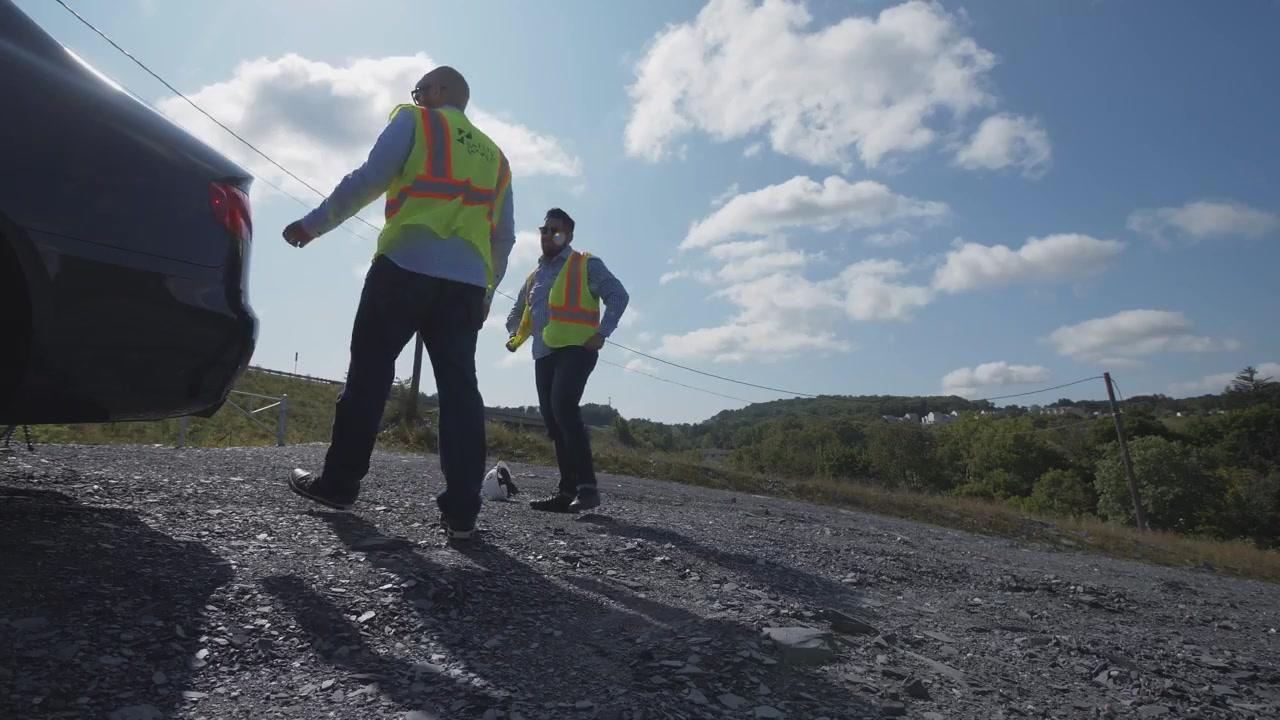vest: (373, 101, 512, 295), (508, 248, 603, 346)
